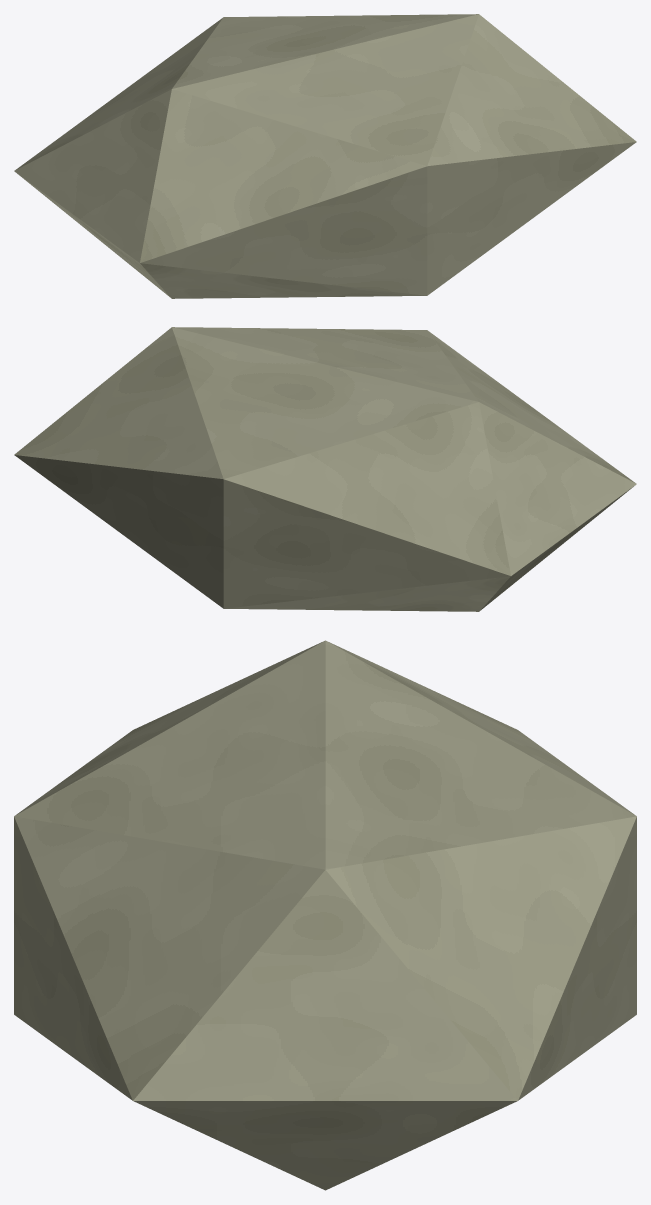
The model's file is pedra-seixo-v02.gltf.
3 renders of one model, top to bottom at view 1: azimuth 30°, elevation 25°; view 2: azimuth 150°, elevation 25°; view 3: azimuth 270°, elevation 25°, orthographic. The views are drawn at different scales.
Parts seen in each view (by area): view 1: forma; view 2: forma; view 3: forma.
Boxes of the visible parts, box(x1,y1,x2,y2) form: forma: box(14, 14, 636, 298); forma: box(14, 327, 636, 611); forma: box(14, 640, 636, 1190).
Bounding box in the file's own units: 1.05 × 0.4253 × 0.7486.
1 material, 1 textured.
